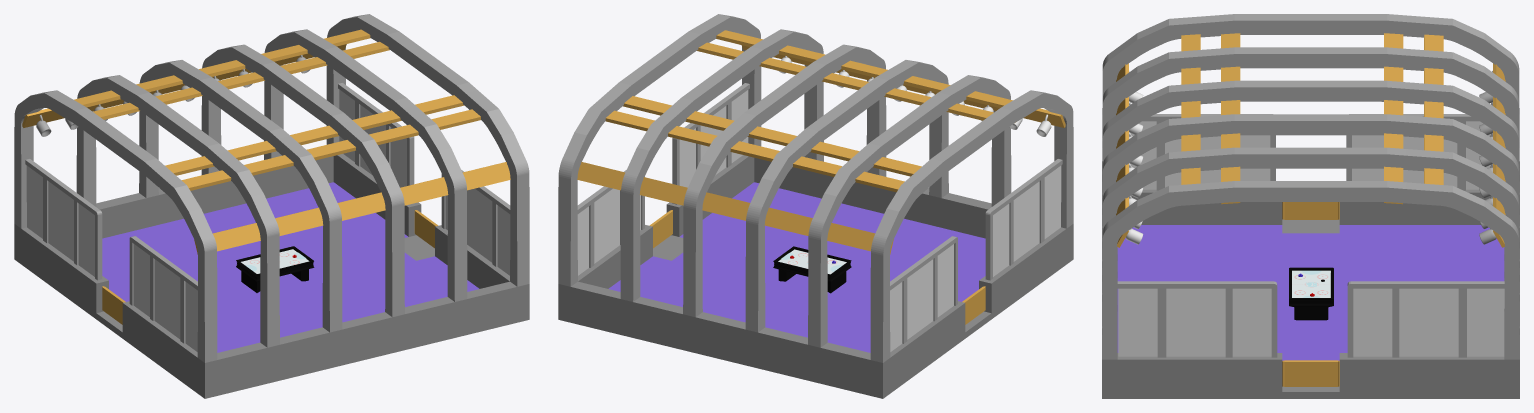
The model's file is field_decoration.fbx.
The picture shows the model from 3 angles, left to right: view 1: azimuth 30°, elevation 25°; view 2: azimuth 150°, elevation 25°; view 3: azimuth 270°, elevation 25°; orthographic projection. The views are drawn at different scales.
Parts seen in each view (by area): view 1: Supports, Plane, Supports_Roof, Glass_T, Glass_Down, Marcs_T, Marcs_D, Warehouse_Models:pCube2, Lights:_R, Door_T, Door_Down, Warehouse_Models:pCube2.004; view 2: Supports, Plane, Supports_Roof, Glass_T, Glass_Down, Marcs_T, Marcs_D, Warehouse_Models:pCube2, Light_L, Door_T, Door_Down; view 3: Supports, Plane, Glass_Down, Supports_Roof, Marcs_D, Glass_T, Warehouse_Models:pCube2, Door_Down, Marcs_T, Door_T, Light_L, Lights:_R (+1 smaller).
Part boxes in pixels (bbox=[...]): Supports: bbox=[14, 14, 529, 362]; Plane: bbox=[14, 154, 529, 398]; Supports_Roof: bbox=[22, 29, 510, 254]; Glass_T: bbox=[26, 165, 197, 351]; Glass_Down: bbox=[339, 89, 510, 275]; Marcs_T: bbox=[25, 159, 197, 343]; Marcs_D: bbox=[338, 83, 510, 266]; Warehouse_Models:pCube2: bbox=[236, 246, 313, 287]; Lights:_R: bbox=[36, 55, 309, 136]; Door_T: bbox=[102, 286, 125, 324]; Door_Down: bbox=[414, 210, 438, 248]; Warehouse_Models:pCube2.004: bbox=[237, 248, 312, 292]; Supports: bbox=[558, 14, 1073, 362]; Plane: bbox=[558, 155, 1073, 398]; Supports_Roof: bbox=[577, 30, 1065, 254]; Glass_T: bbox=[890, 165, 1061, 351]; Glass_Down: bbox=[577, 90, 748, 275]; Marcs_T: bbox=[890, 159, 1062, 343]; Marcs_D: bbox=[577, 83, 749, 267]; Warehouse_Models:pCube2: bbox=[773, 246, 851, 293]; Light_L: bbox=[779, 55, 1051, 136]; Door_T: bbox=[962, 286, 985, 324]; Door_Down: bbox=[649, 210, 672, 248]; Supports: bbox=[1102, 14, 1519, 359]; Plane: bbox=[1102, 189, 1519, 398]; Glass_Down: bbox=[1118, 288, 1504, 356]; Supports_Roof: bbox=[1116, 33, 1505, 247]; Marcs_D: bbox=[1117, 281, 1504, 357]; Glass_T: bbox=[1131, 121, 1491, 189]; Warehouse_Models:pCube2: bbox=[1289, 267, 1333, 320]; Door_Down: bbox=[1282, 360, 1339, 386]; Marcs_T: bbox=[1142, 114, 1479, 190]; Door_T: bbox=[1282, 202, 1339, 219]; Light_L: bbox=[1125, 70, 1143, 244]; Lights:_R: bbox=[1479, 71, 1496, 244].
Bounding box in the file's own units: 1429 × 811 × 1453.
